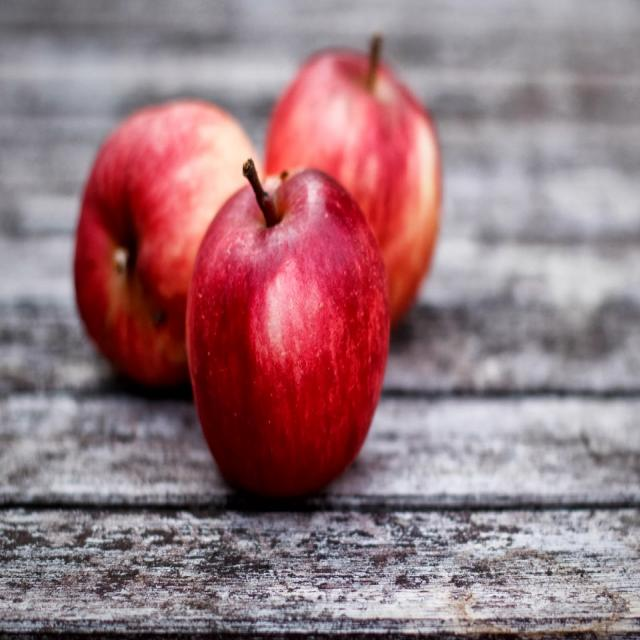Apple: (181, 158, 394, 511), (72, 104, 267, 391), (262, 32, 442, 314)
